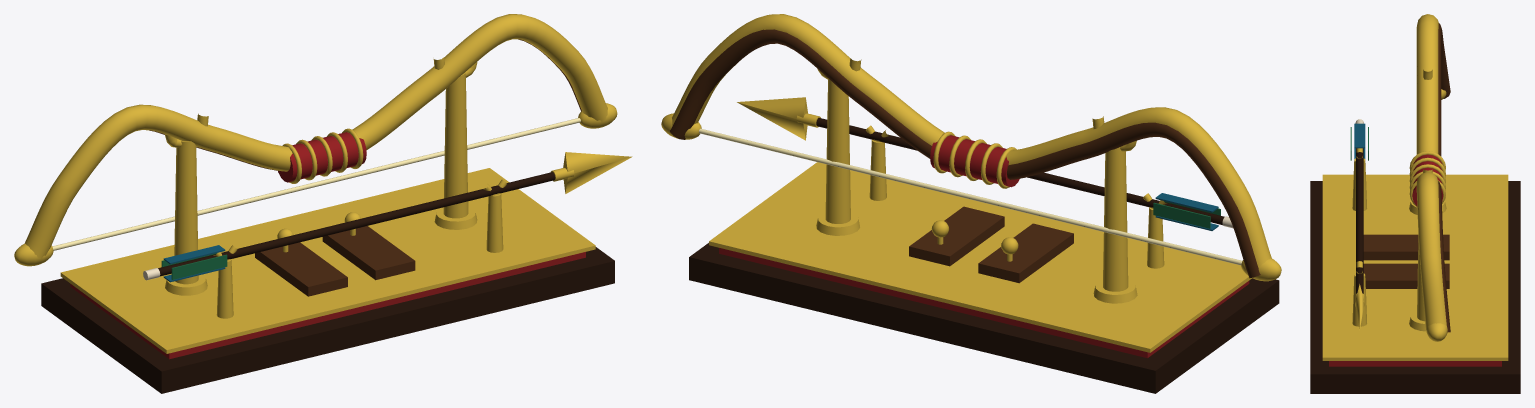
The model's file is ramayana-bow.glb.
The picture shows the model from 3 angles, left to right: view 1: azimuth 30°, elevation 25°; view 2: azimuth 150°, elevation 25°; view 3: azimuth 270°, elevation 25°; orthographic projection. The views are drawn at different scales.
Parts seen in each view (by area): view 1: stand-gold-fillet, ramayana-exhibition-ensemble, rosewood-stand-base, surya-arrow-shaft, velvet-cushion-pad, bow-riser-pillar-1, paduka-sole-1, paduka-sole-0, bow-riser-pillar-0, kodanda-handle-grip, surya-arrow-head, arrow-pillar-1 (+4 smaller); view 2: stand-gold-fillet, ramayana-exhibition-ensemble, rosewood-stand-base, velvet-cushion-pad, bow-riser-pillar-0, bow-riser-pillar-1, paduka-sole-0, paduka-sole-1, kodanda-handle-grip, surya-arrow-shaft, surya-arrow-head, arrow-pillar-1 (+4 smaller); view 3: stand-gold-fillet, rosewood-stand-base, ramayana-exhibition-ensemble, paduka-sole-0, paduka-sole-1, surya-arrow-shaft, velvet-cushion-pad, kodanda-handle-grip, arrow-pillar-1, bow-riser-pillar-1, arrow-pillar-0, bow-tip-1 (+3 smaller).
Boxes of the visible parts, x1,y1,x2,y2 form: stand-gold-fillet: (60, 168, 595, 353); ramayana-exhibition-ensemble: (24, 14, 607, 260); rosewood-stand-base: (41, 247, 614, 393); surya-arrow-shaft: (158, 172, 555, 276); velvet-cushion-pad: (70, 252, 585, 359); bow-riser-pillar-1: (443, 72, 468, 218); paduka-sole-1: (322, 226, 415, 280); paduka-sole-0: (255, 242, 347, 296); bow-riser-pillar-0: (174, 141, 198, 284); kodanda-handle-grip: (278, 132, 366, 182); surya-arrow-head: (563, 152, 632, 193); arrow-pillar-1: (486, 193, 503, 252); stand-gold-fillet: (709, 162, 1251, 352); ramayana-exhibition-ensemble: (670, 14, 1271, 278); rosewood-stand-base: (689, 243, 1279, 393); velvet-cushion-pad: (719, 248, 1249, 358); bow-riser-pillar-0: (1103, 147, 1128, 291); bow-riser-pillar-1: (825, 78, 850, 223); paduka-sole-0: (978, 223, 1073, 283); paduka-sole-1: (909, 206, 1004, 266); kodanda-handle-grip: (930, 135, 1019, 187); surya-arrow-shaft: (816, 118, 1224, 225); surya-arrow-head: (737, 97, 807, 140); arrow-pillar-1: (869, 140, 886, 200); stand-gold-fillet: (1322, 174, 1508, 360); rosewood-stand-base: (1310, 181, 1520, 393); ramayana-exhibition-ensemble: (1356, 14, 1450, 332); paduka-sole-0: (1363, 234, 1449, 260); paduka-sole-1: (1363, 263, 1449, 288); surya-arrow-shaft: (1356, 148, 1363, 293); velvet-cushion-pad: (1329, 361, 1501, 366); kodanda-handle-grip: (1412, 154, 1443, 206); arrow-pillar-1: (1352, 273, 1366, 326); bow-riser-pillar-1: (1417, 236, 1425, 321); arrow-pillar-0: (1352, 158, 1366, 210); bow-tip-1: (1426, 323, 1447, 341).
Size of the model in its own units: 0.92 by 0.333 by 0.3187.
